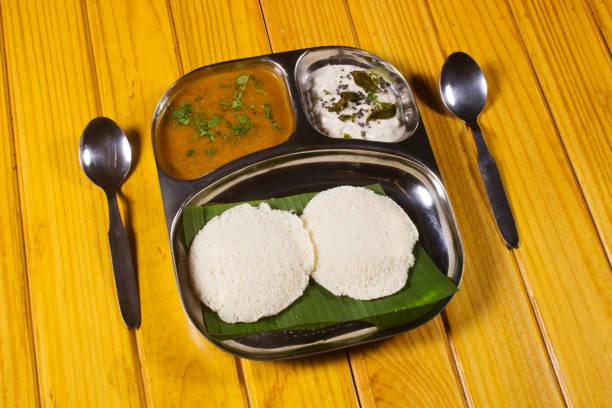coconut chutney: (307, 66, 409, 146)
idli: (194, 193, 431, 320)
sambhar: (157, 77, 293, 174)
